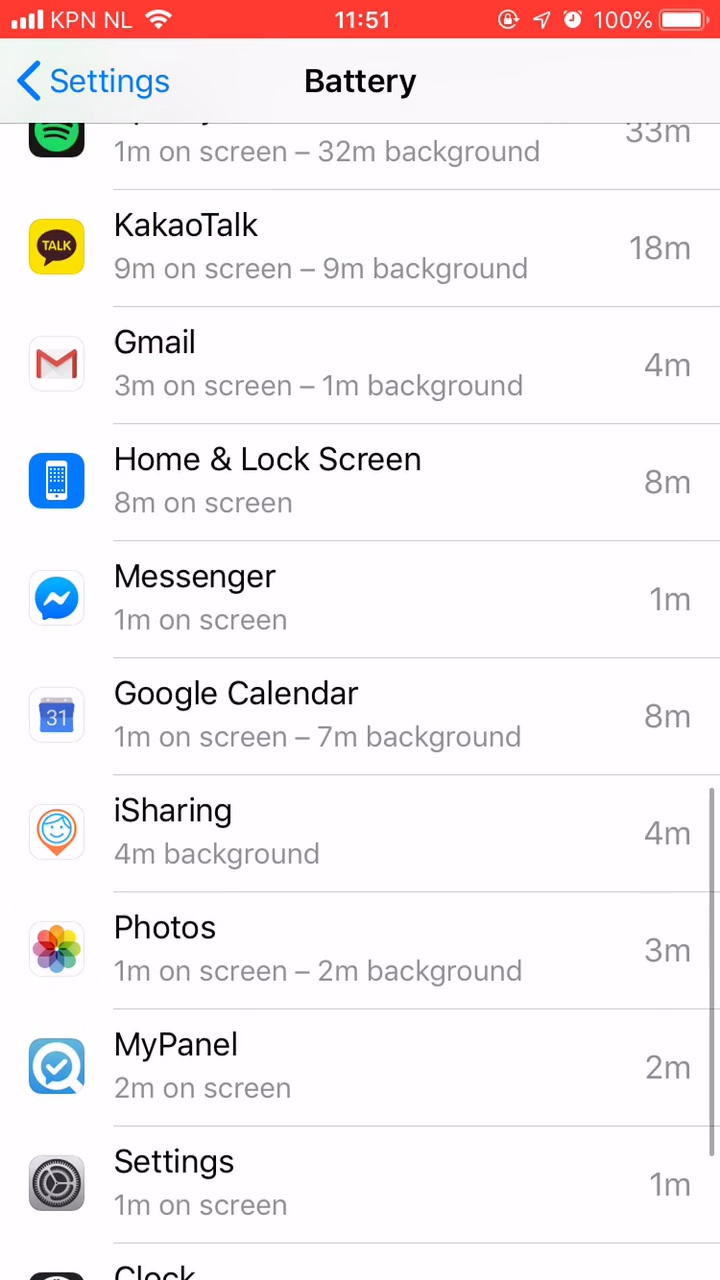app: (30, 206, 698, 290), (30, 323, 698, 407), (27, 437, 695, 521), (34, 555, 702, 639), (30, 677, 698, 761), (33, 787, 701, 871), (33, 907, 701, 991), (25, 1023, 693, 1107), (27, 1138, 695, 1222)
